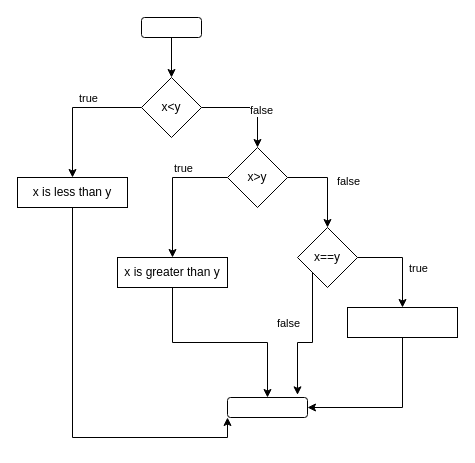
This 475x463 diagram has some shape labels left out. Here are the shapes that lost their labels. From the top down, the centre of each, then its label:
At point 171,27: "start".
At point 402,322: "x is equal to y".
At point 267,407: "stop".
